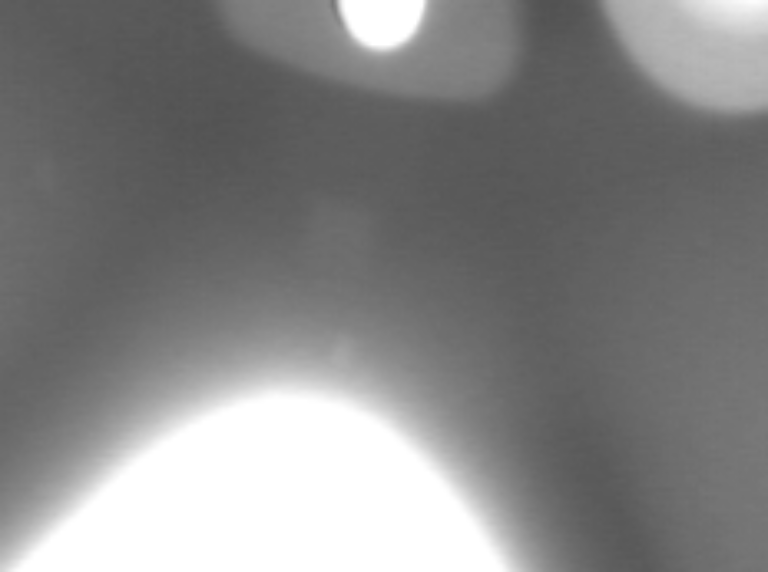defect: (43, 161, 86, 216)
